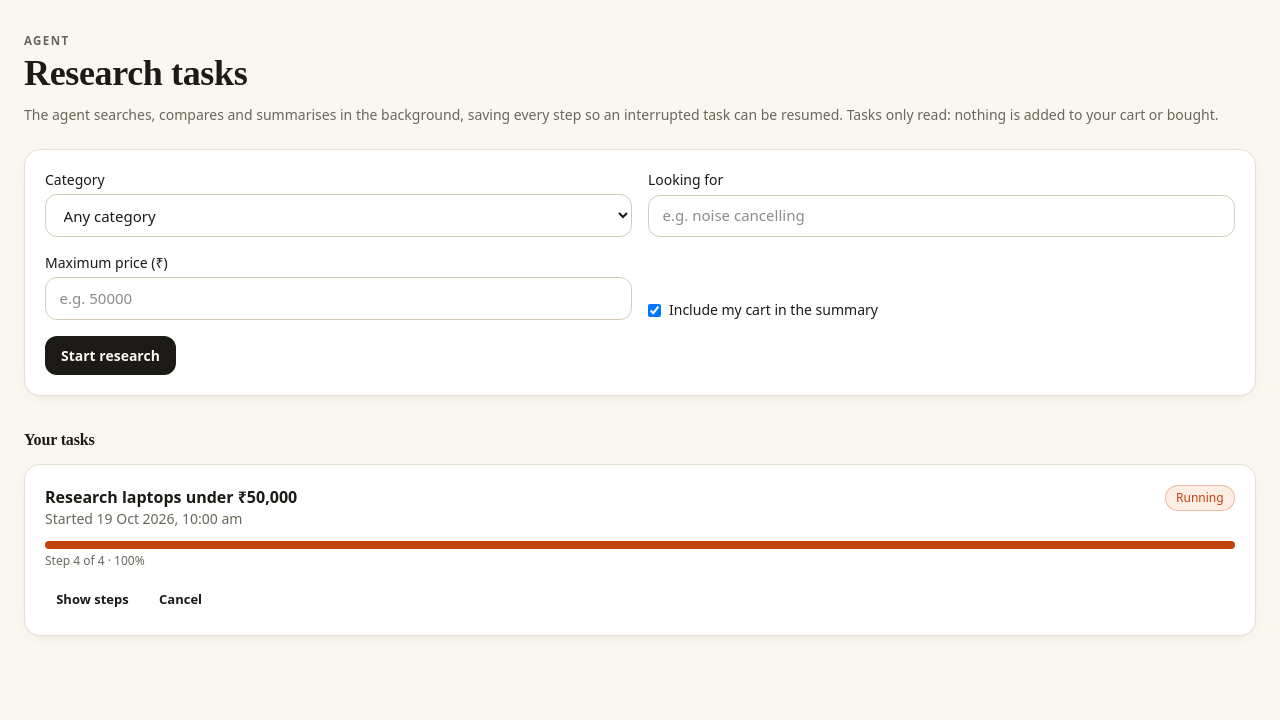
Task controls › a stale Cancel (409) shows the error and refreshes the list
Click the button "Cancel": (181, 600) [148,585,213,615]
(page scrolled)
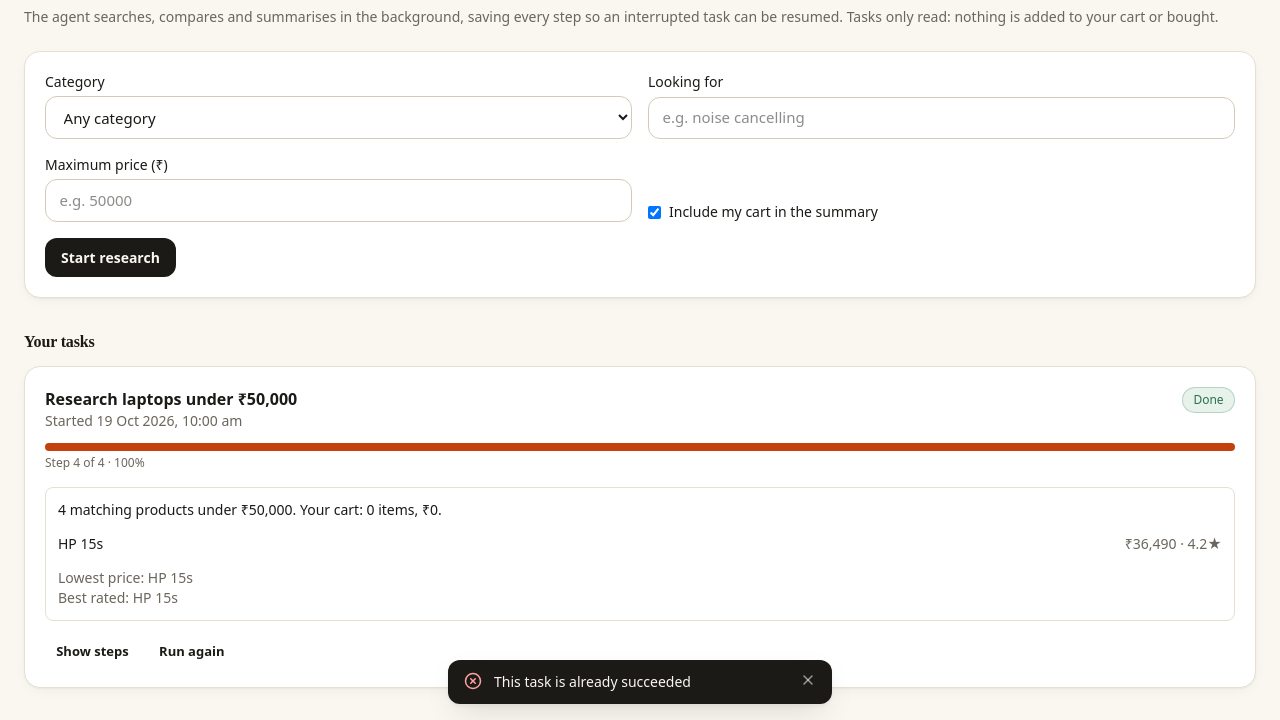
Check: the text "This task is already succeeded" is shown, box [494,672,691,691]
Check: the button "Run again" is shown, box [148,637,236,667]
